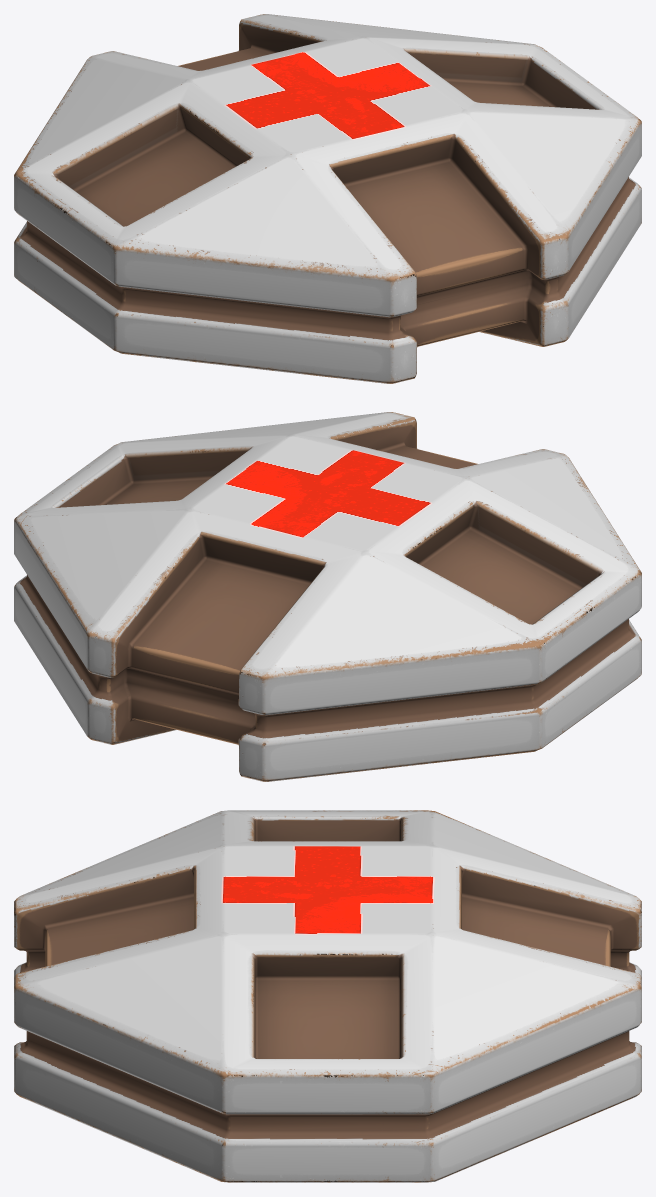
File: health.glb
3 views of the same model, one above another, from view 1: azimuth 30°, elevation 25°; view 2: azimuth 150°, elevation 25°; view 3: azimuth 270°, elevation 25° (orthographic). The views are drawn at different scales.
Visible parts, largest first — view 1: Object_2; view 2: Object_2; view 3: Object_2.
Boxes of the visible parts, box(x1,y1,x2,y2) form: Object_2: box(14, 14, 641, 383); Object_2: box(14, 412, 641, 781); Object_2: box(14, 810, 641, 1182).
Bounding box in the file's own units: 1 × 0.3748 × 1.
1 material, 1 textured.
